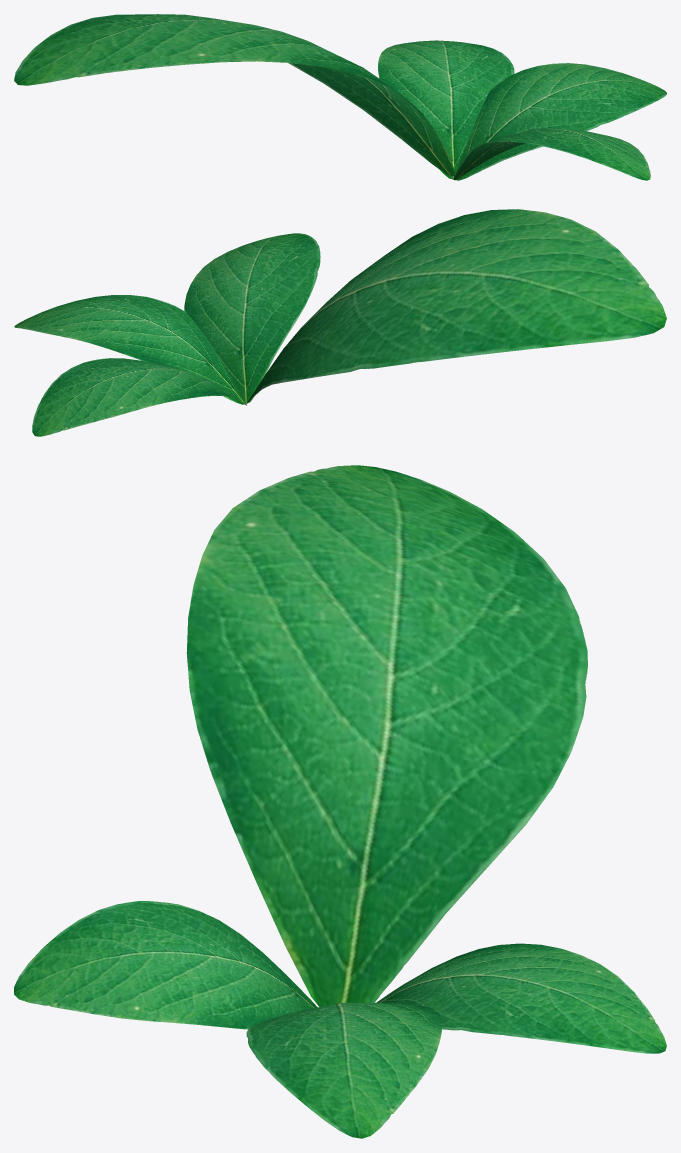
Rendered from leaf_slime.fbx.
3 renders of one model, top to bottom at view 1: azimuth 30°, elevation 25°; view 2: azimuth 150°, elevation 25°; view 3: azimuth 270°, elevation 25°, orthographic. The views are drawn at different scales.
Parts seen in each view (by area): view 1: Plane, Plane.003, Plane.002, Plane.001; view 2: Plane, Plane.001, Plane.003, Plane.002; view 3: Plane, Plane.001, Plane.002, Plane.003.
Part boxes in pixels (<box>): Plane: <box>14,14,454,176</box>; Plane.003: <box>456,63,666,180</box>; Plane.002: <box>378,40,514,179</box>; Plane.001: <box>453,128,650,180</box>; Plane: <box>246,209,666,404</box>; Plane.001: <box>184,233,320,403</box>; Plane.003: <box>14,295,245,404</box>; Plane.002: <box>32,358,246,436</box>; Plane: <box>186,465,587,1007</box>; Plane.001: <box>14,901,317,1029</box>; Plane.002: <box>377,943,666,1053</box>; Plane.003: <box>246,1002,442,1138</box>.
Size of the model in its own units: 320 by 104 by 198.
